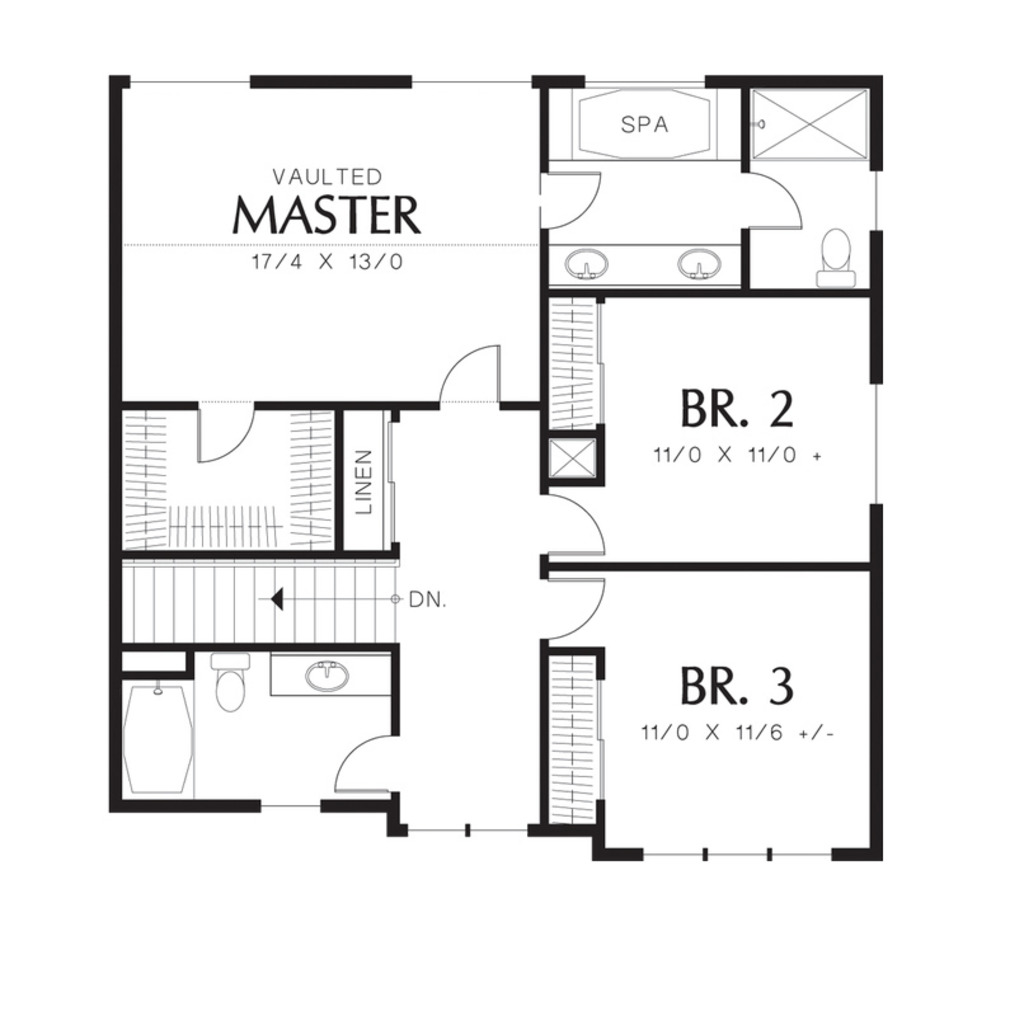door: (188, 393, 263, 469), (543, 493, 614, 567), (543, 578, 615, 644), (323, 729, 402, 789), (439, 341, 508, 409), (537, 164, 606, 230), (743, 164, 809, 232)
large_sink: (808, 224, 859, 292), (208, 649, 255, 716)
small_sink: (548, 249, 749, 290), (268, 649, 394, 698)
stairs: (123, 561, 408, 656)
tub: (115, 678, 197, 798)
window: (128, 72, 249, 87), (869, 386, 883, 509), (871, 169, 879, 230)
